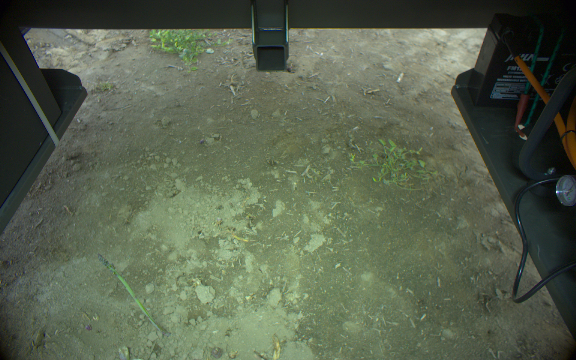aspa: (95, 253, 165, 334)
